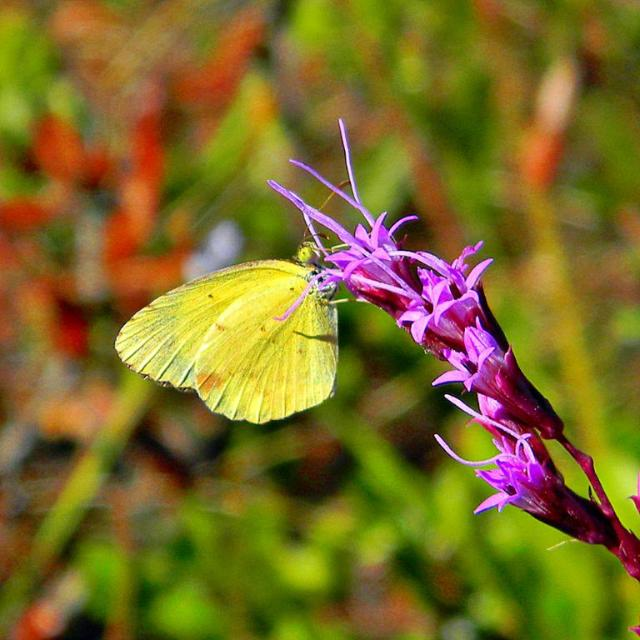Flower: (270, 126, 420, 324), (478, 452, 610, 570), (392, 256, 498, 340), (438, 322, 508, 402)
